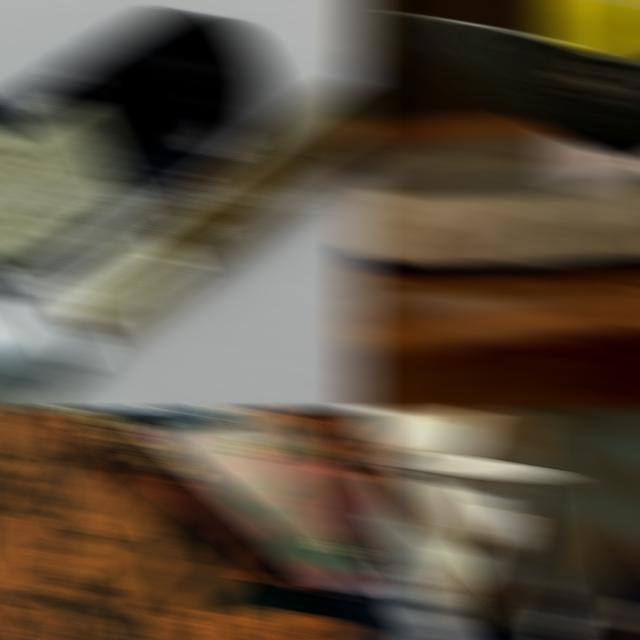Knife: (0, 81, 369, 410), (393, 12, 640, 162), (364, 441, 570, 480)
